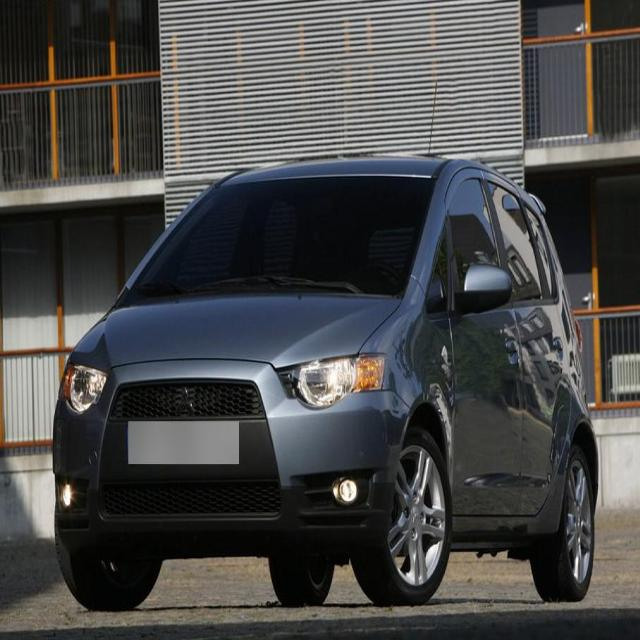front_bumper: (50, 384, 414, 546)
front_glass: (121, 172, 437, 304)
front_left_side_door: (436, 162, 529, 524)
front_left_side_light: (273, 349, 388, 411)
front_left_side_mirror: (455, 261, 513, 317)
front_right_side_light: (59, 359, 109, 418)
wheel: (352, 430, 452, 604), (530, 445, 596, 600), (57, 538, 164, 609), (268, 557, 333, 607)
